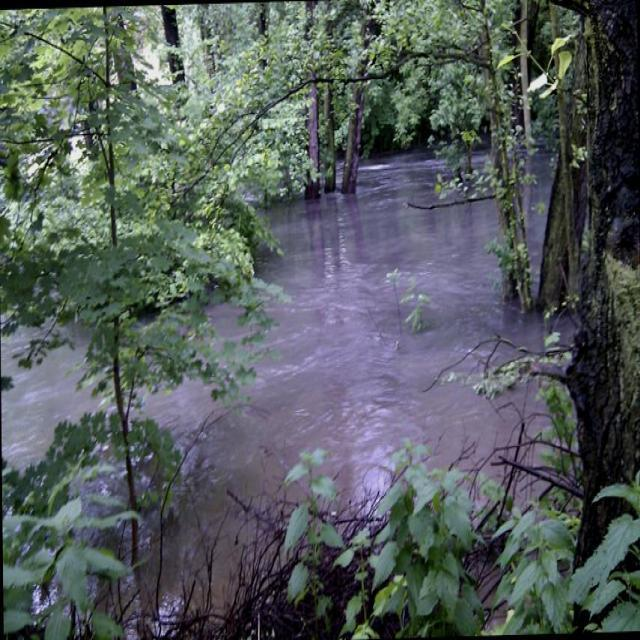flood: (144, 162, 585, 549)
